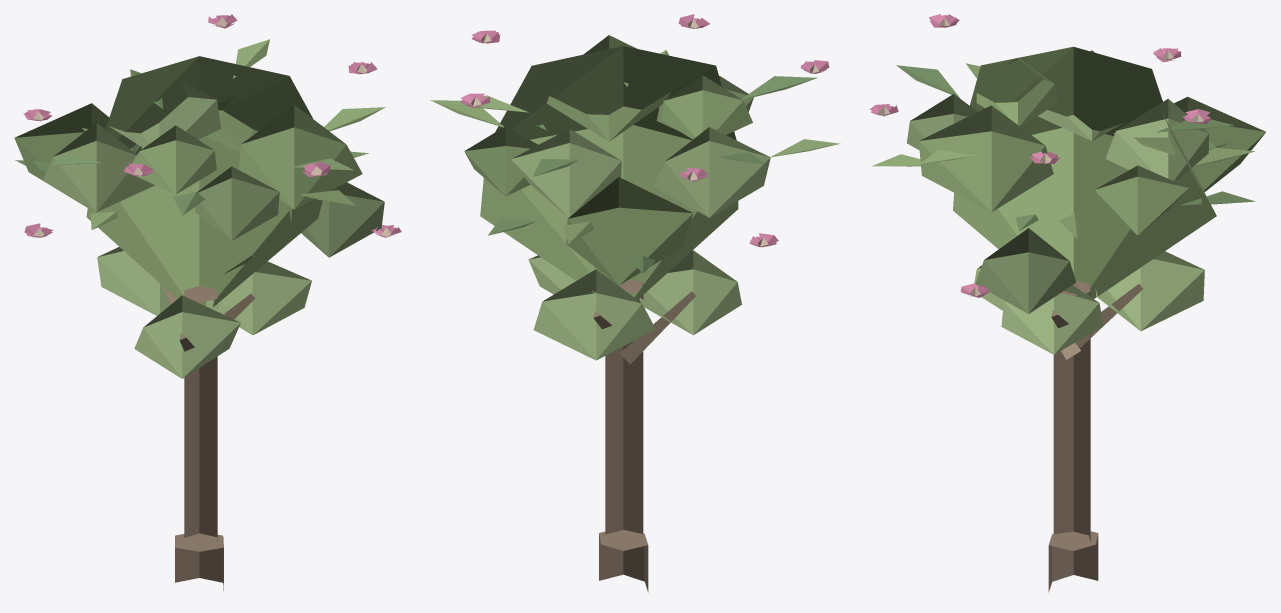
The model's file is shu.yinxing@flowering__summer.glb.
3 renders of one model, left to right at view 1: azimuth 30°, elevation 25°; view 2: azimuth 150°, elevation 25°; view 3: azimuth 270°, elevation 25°, orthographic.
Parts seen in each view (by area): view 1: shu.yinxing@flowering__summer; view 2: shu.yinxing@flowering__summer; view 3: shu.yinxing@flowering__summer.
Part boxes in pixels (x1=…): shu.yinxing@flowering__summer: x1=14, y1=14, x2=401, y2=590; shu.yinxing@flowering__summer: x1=430, y1=14, x2=840, y2=592; shu.yinxing@flowering__summer: x1=869, y1=14, x2=1265, y2=592.
Size of the model in its own units: 9.98 by 14.35 by 9.6.
